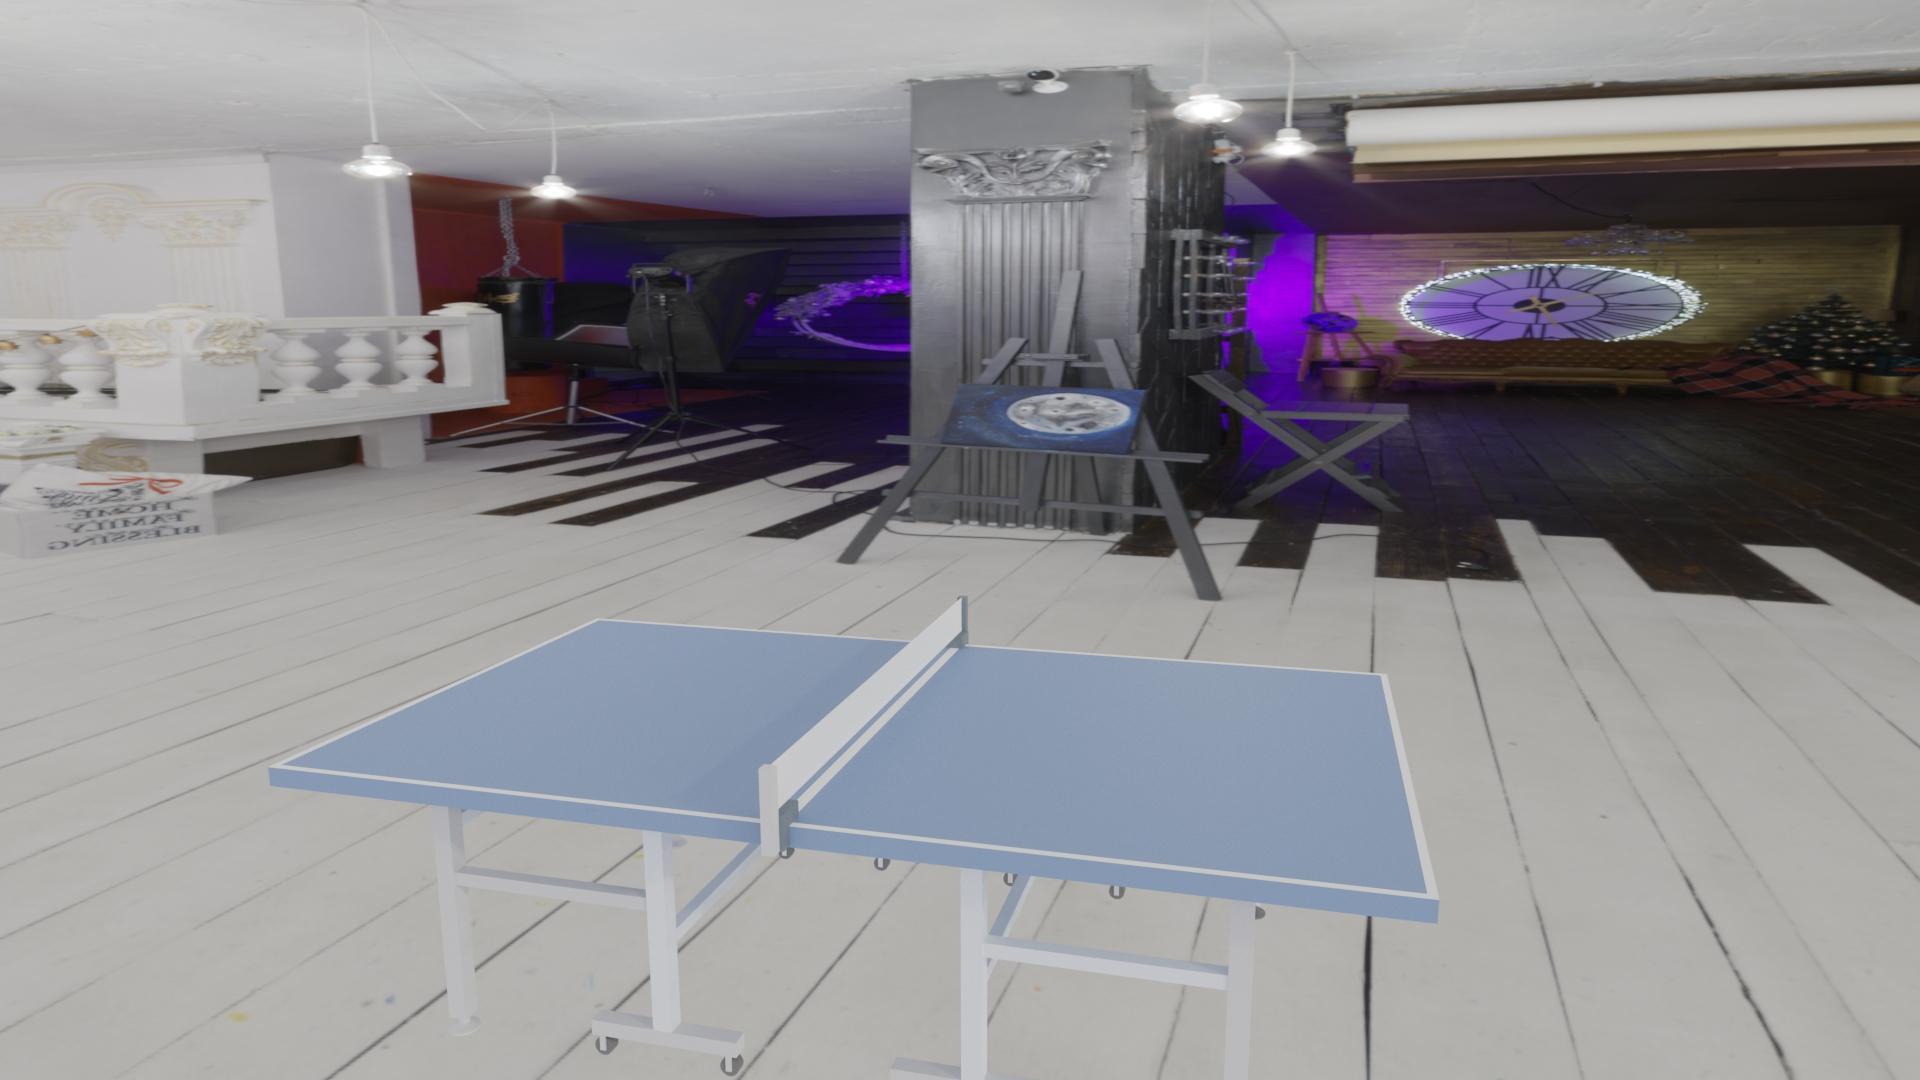table: (281, 620, 1427, 894)
